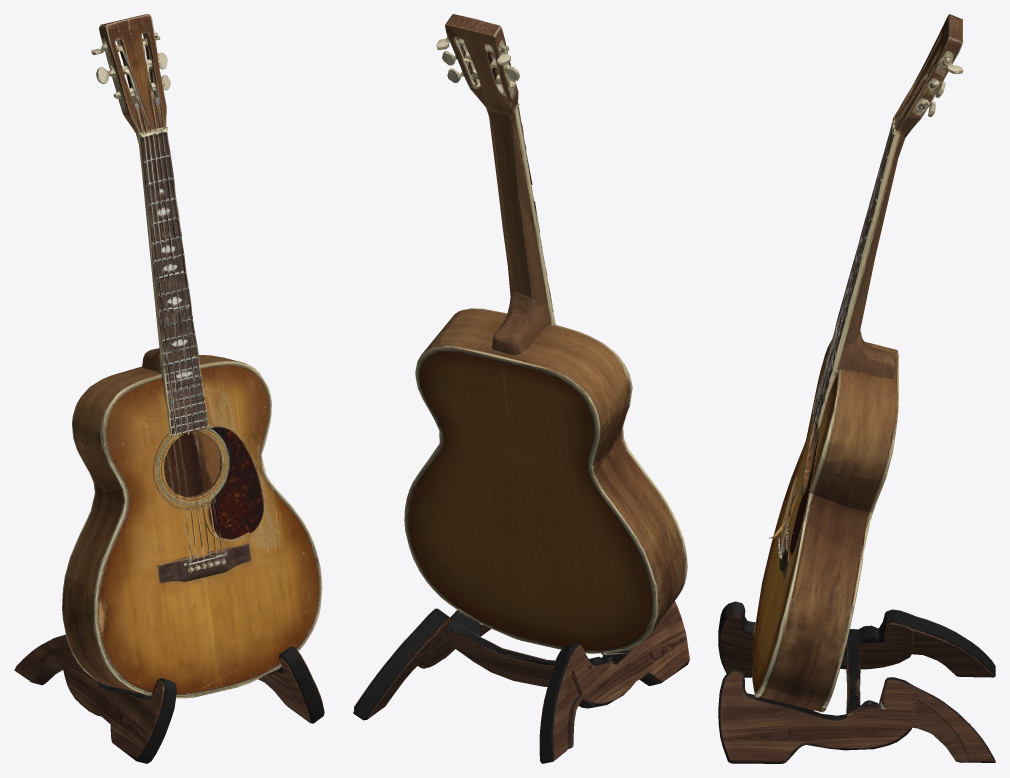
Rendered from guitar.glb.
3 views of the same model, side by side, from view 1: azimuth 30°, elevation 25°; view 2: azimuth 150°, elevation 25°; view 3: azimuth 270°, elevation 25° (orthographic). The views are drawn at different scales.
Visible parts, largest first — view 1: Mesh_0; view 2: Mesh_0; view 3: Mesh_0.
Part boxes in pixels (x1,y1,x2,y2): Mesh_0: [14, 14, 324, 763]; Mesh_0: [353, 14, 689, 763]; Mesh_0: [718, 14, 995, 763].
Size of the model in its own units: 0.7085 by 1.9 by 0.6882.
1 material, 1 textured.
